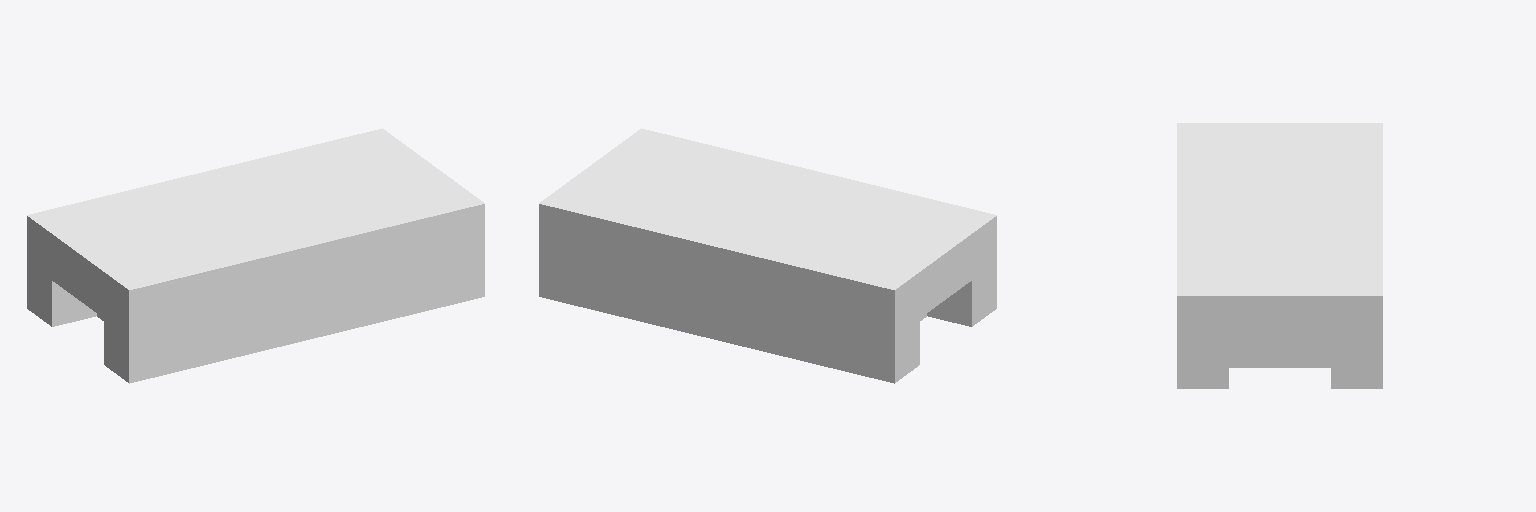
Rendered from log1.obj.
The picture shows the model from 3 angles: view 1: azimuth 30°, elevation 25°; view 2: azimuth 150°, elevation 25°; view 3: azimuth 270°, elevation 25°; orthographic projection.
Parts seen in each view (by area): view 1: object 1; view 2: object 1; view 3: object 1.
Part boxes in pixels (left/top/right/bottom): object 1: left=27, top=128, right=484, bottom=383; object 1: left=539, top=128, right=996, bottom=383; object 1: left=1177, top=123, right=1382, bottom=388.
Bounding box in the file's own units: 8 × 2 × 4.